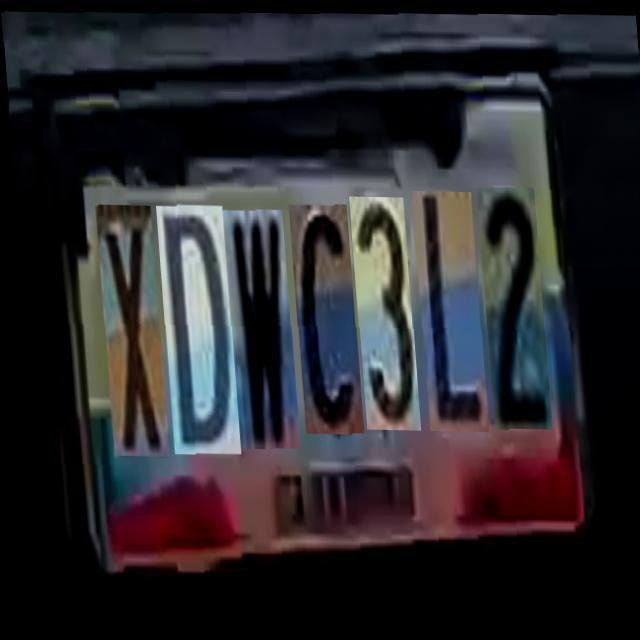2: (472, 183, 544, 426)
3: (345, 191, 413, 425)
C: (284, 198, 356, 428)
D: (152, 196, 232, 446)
L: (408, 186, 481, 428)
W: (218, 202, 292, 442)
X: (90, 196, 160, 448)
